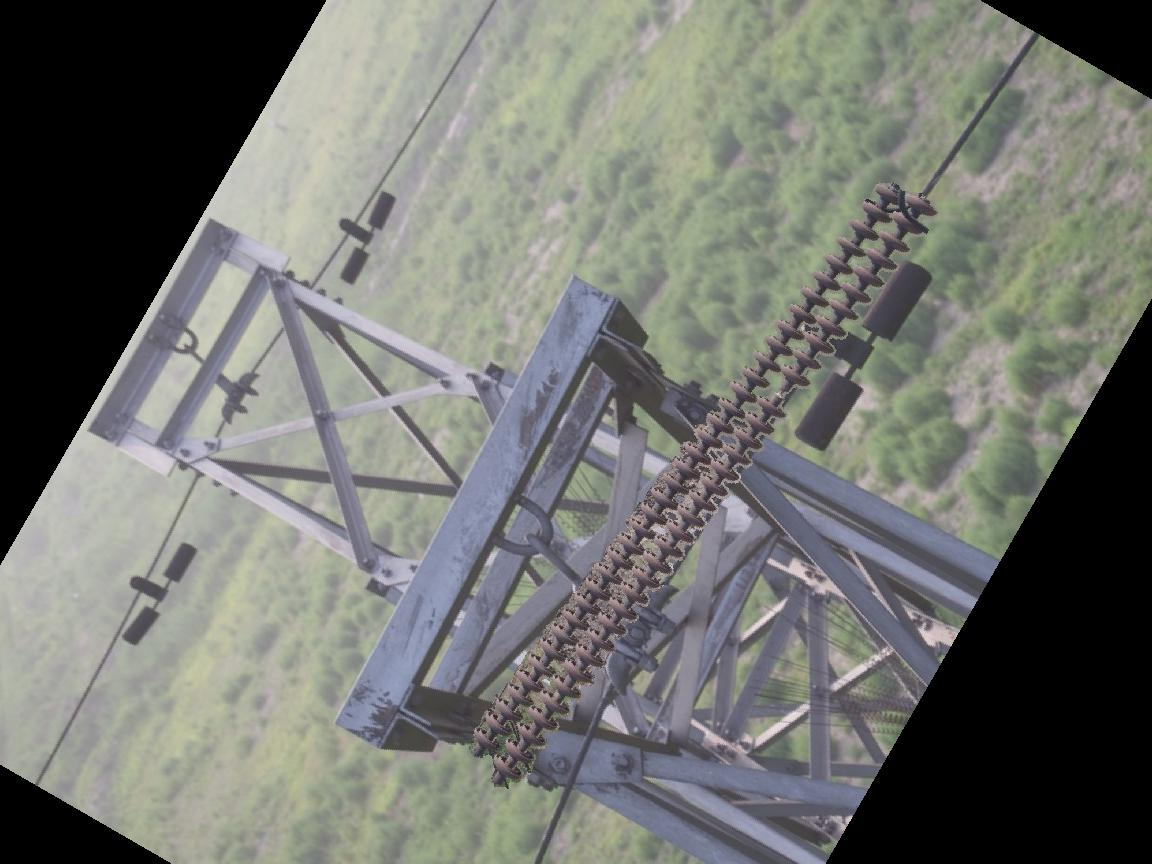insulator: (469, 180, 937, 785)
insulator_stringdrop: (755, 362, 813, 423)
